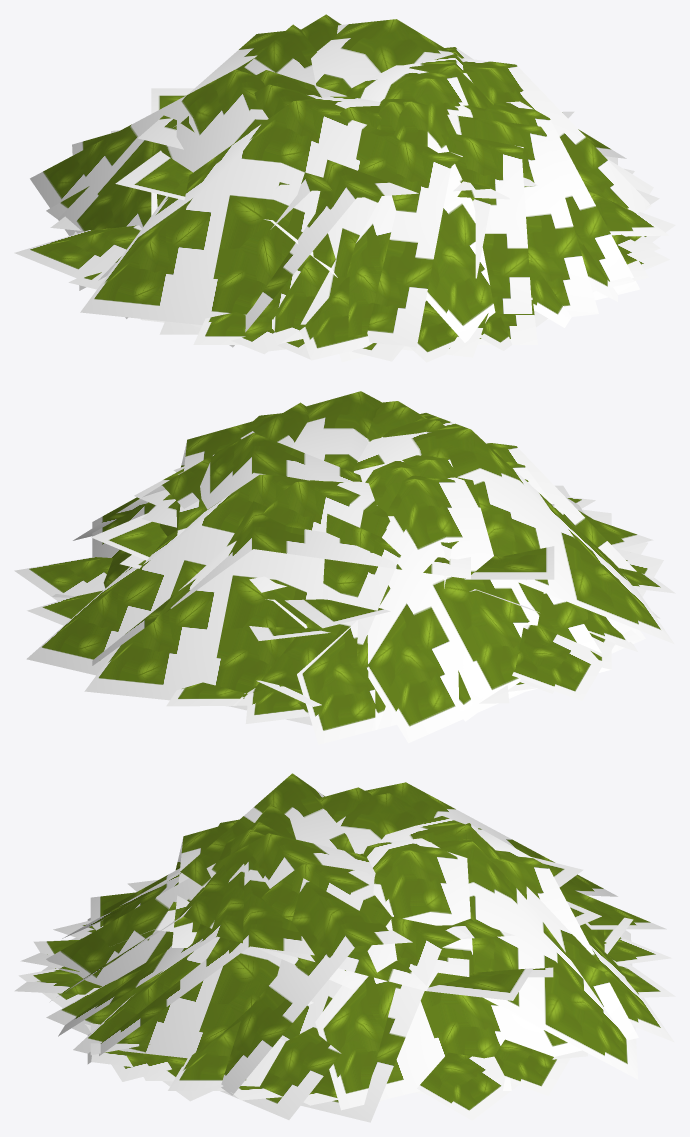
File: pile-leaves.fbx
3 views of the same model, one above another, from view 1: azimuth 30°, elevation 25°; view 2: azimuth 150°, elevation 25°; view 3: azimuth 270°, elevation 25° (orthographic).
Visible parts, largest first — view 1: pPlane15; view 2: pPlane15; view 3: pPlane15.
Part boxes in pixels (left/top/right/bottom): pPlane15: left=14, top=14, right=675, bottom=362; pPlane15: left=14, top=391, right=675, bottom=744; pPlane15: left=14, top=773, right=675, bottom=1122.
Bounding box in the file's own units: 3.89 × 1.18 × 3.85.
Materials: 1 (1 with a texture image).
